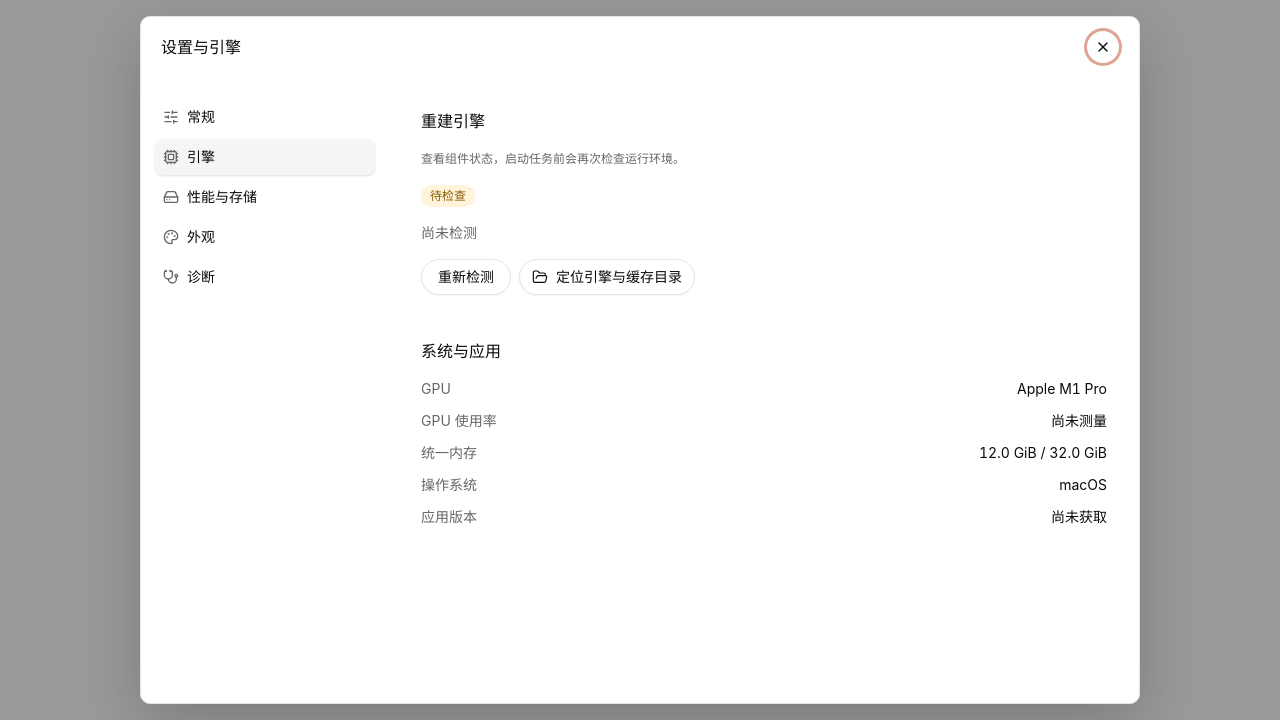
SettingsDrawer › labels shared memory truthfully and shows effective settings separately from the requested preset
Check: the text "统一内存" is shown, box [421,444,477,460]
Click the tab "性能与存储" at (265, 197), box [155,179,375,215]
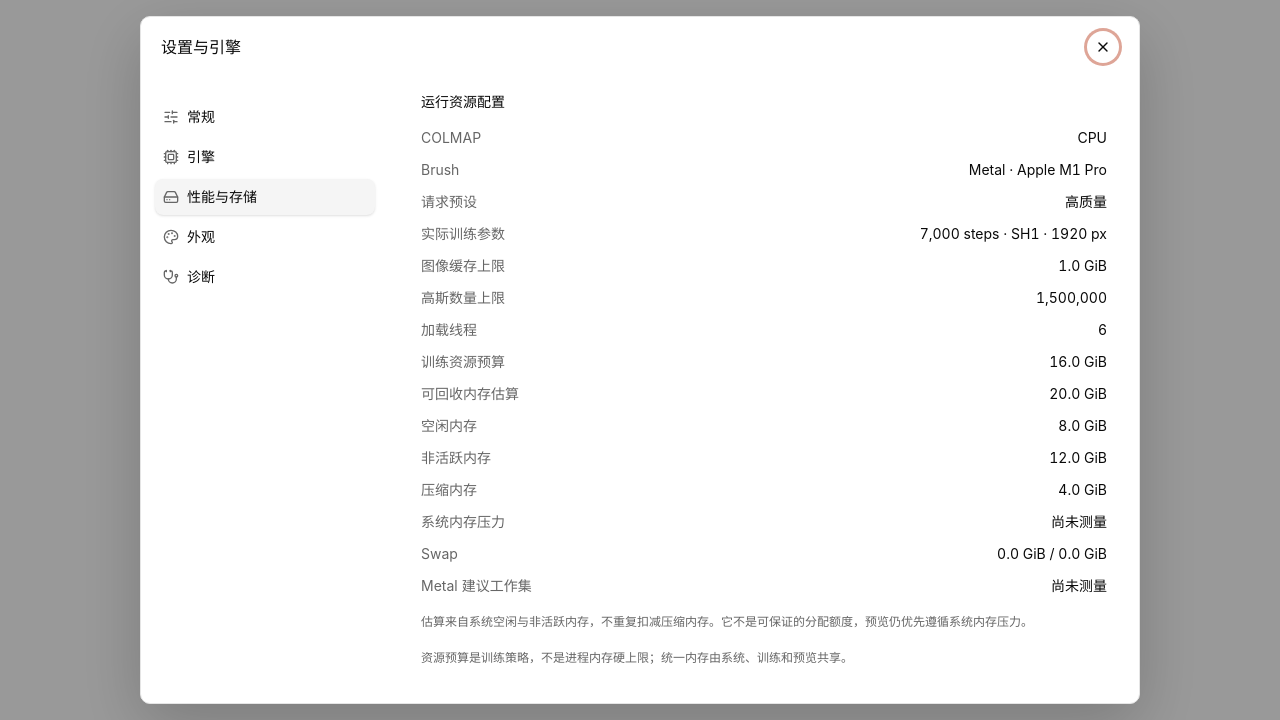
Check: the text "CPU" is shown, box [1077,129,1107,146]
Check: the text "Metal · Apple M1 Pro" is shown, box [969,161,1107,178]
Check: the text "高质量" is shown, box [1065,193,1107,210]
